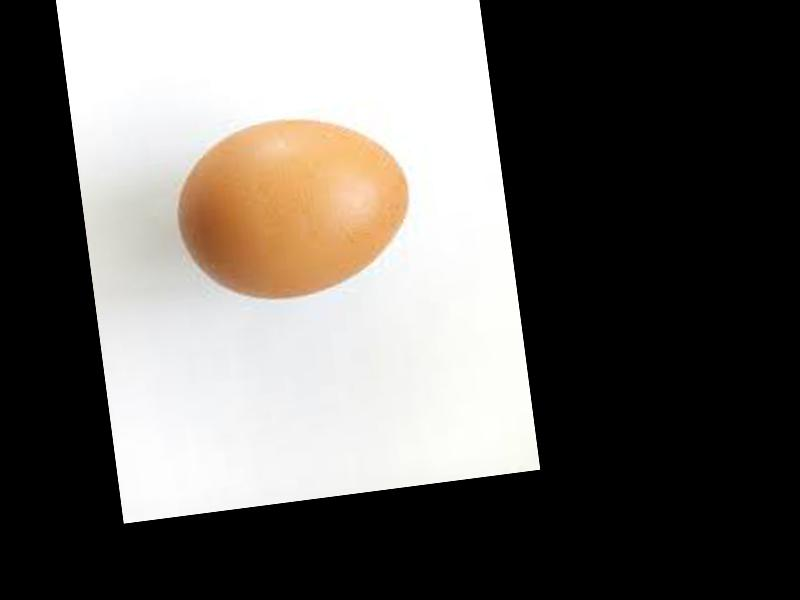Eggs: (164, 106, 423, 312)
